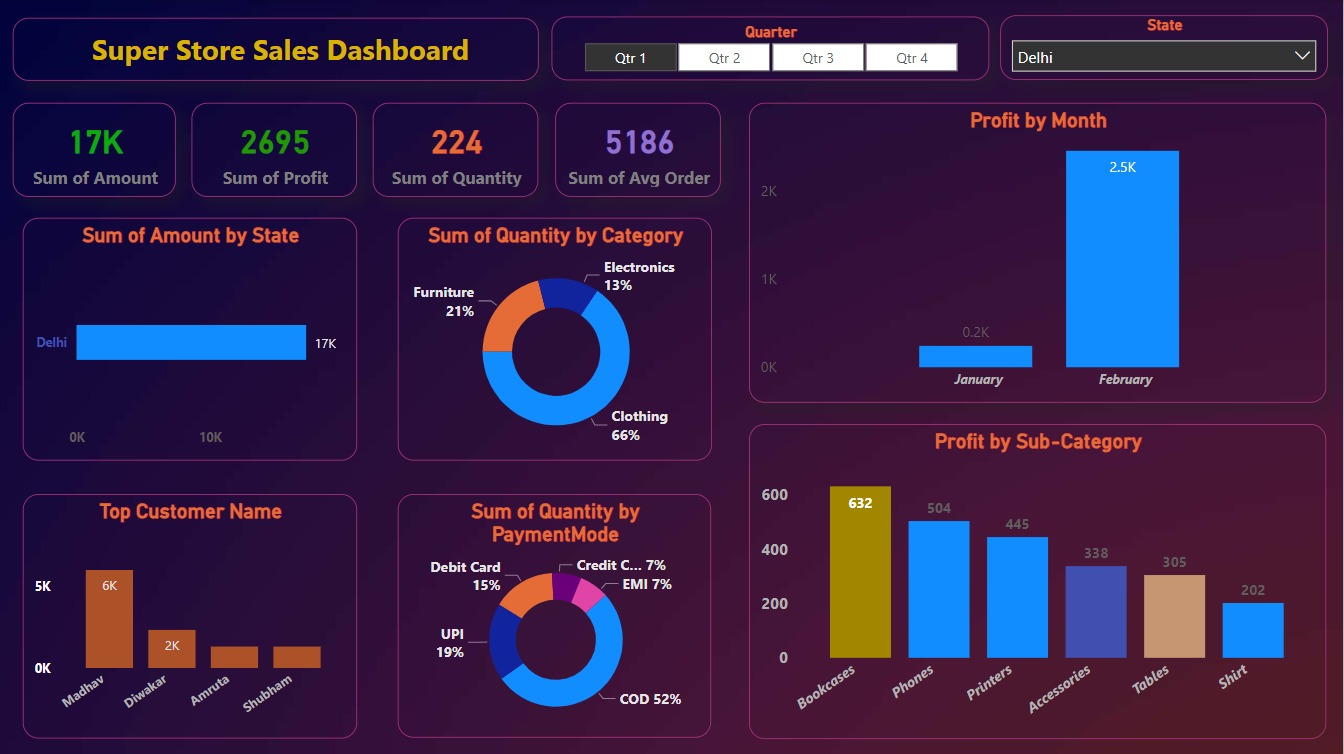

Layout of this report page (visuals, bound fields, positions):
{"tool":"powerbi","page":{"name":"Page 1","canvas":[1280,720],"ordinal":0},"visuals":[{"type":"textbox","box":[13.5,17.4,500.9,60.4],"z":0,"group":"g1"},{"type":"columnChart","title":"Profit by Month","fields":{"Category":["Orders.Order Date.Variation.Date Hierarchy.Month"],"Y":["Sum(Details.Profit)"]},"box":[714,98.8,549.8,285.6],"z":1000,"group":"g1"},{"type":"columnChart","title":"Profit by Sub-Category","fields":{"Category":["Details.Sub-Category"],"Y":["Sum(Details.Profit)"]},"box":[714,404.1,549.5,300.4],"z":2000,"group":"g1"},{"type":"donutChart","fields":{"Category":["Details.Category"],"Y":["Sum(Details.Quantity)"]},"box":[379.1,208.6,299.2,231.3],"z":3000,"group":"g1"},{"type":"donutChart","fields":{"Y":["Sum(Details.Quantity)"],"Category":["Details.PaymentMode"]},"box":[379.6,471.3,298.7,232.1],"z":4000,"group":"g1"},{"type":"card","fields":{"Values":["Sum(Details.Amount)"]},"box":[13.1,98.9,155,89.4],"z":5000,"group":"g1"},{"type":"card","fields":{"Values":["Sum(Details.Profit)"]},"box":[183.6,98.9,157.3,89.4],"z":6000,"group":"g1"},{"type":"card","fields":{"Values":["Sum(Details.Quantity)"]},"box":[356.4,98.9,157.3,89.4],"z":7000,"group":"g1"},{"type":"card","fields":{"Values":["Sum(Details.Avg Order)"]},"box":[529.2,98.9,157.3,89.4],"z":8000,"group":"g1"},{"type":"clusteredBarChart","fields":{"Category":["Orders.State"],"Y":["Sum(Details.Amount)"]},"box":[22.6,208.6,318.3,231.3],"z":9000,"group":"g1"},{"type":"columnChart","title":"Top Customer Name","fields":{"Category":["Orders.CustomerName"],"Y":["Sum(Details.Amount)"]},"box":[22.6,470.9,318.3,232.4],"z":10000,"group":"g1"},{"type":"slicer","title":"Quarter","fields":{"Values":["Orders.Order Date.Variation.Date Hierarchy.Quarter"]},"box":[525.6,17.1,416.5,60.7],"z":11000,"group":"g1"},{"type":"slicer","title":"State","fields":{"Values":["Orders.State"]},"box":[953.4,15.5,311.8,61.9],"z":13000,"group":"g1"},{"type":"group","id":"g1","title":"Group 1","box":[13.1,15.5,1252,689.1],"z":13001}]}

Visuals, with their boxes in screenshot pixels (x1, y1, x2, y2), scaled from the page's 1280x720 canvas onto the 1344x754 screenshot:
textbox: l=14, t=18, r=540, b=81
"Profit by Month" columnChart: l=750, t=103, r=1327, b=403
"Profit by Sub-Category" columnChart: l=750, t=423, r=1327, b=738
donutChart - Details.Category x Sum(Details.Quantity): l=398, t=218, r=712, b=461
donutChart - Sum(Details.Quantity) x Details.PaymentMode: l=399, t=494, r=712, b=737
card - Sum(Details.Amount): l=14, t=104, r=177, b=197
card - Sum(Details.Profit): l=193, t=104, r=358, b=197
card - Sum(Details.Quantity): l=374, t=104, r=539, b=197
card - Sum(Details.Avg Order): l=556, t=104, r=721, b=197
clusteredBarChart - Orders.State x Sum(Details.Amount): l=24, t=218, r=358, b=461
"Top Customer Name" columnChart: l=24, t=493, r=358, b=737
"Quarter" slicer: l=552, t=18, r=989, b=81
"State" slicer: l=1001, t=16, r=1328, b=81
"Group 1" group: l=14, t=16, r=1328, b=738
